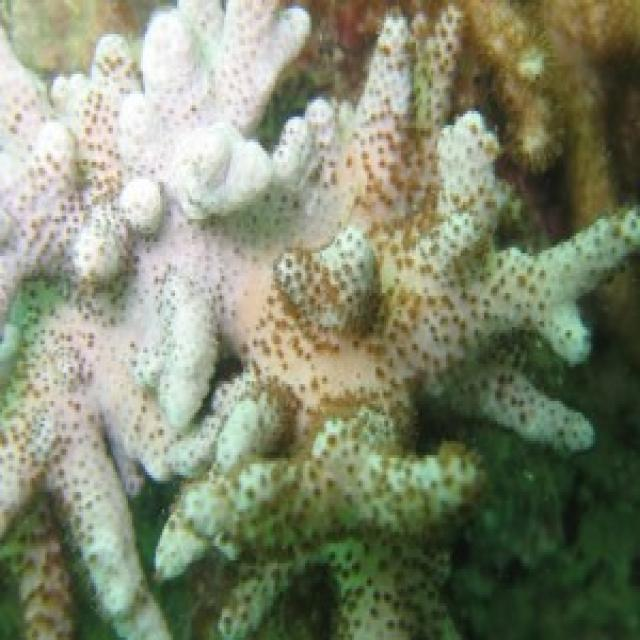Bleached: (1, 1, 639, 638), (257, 12, 639, 638), (1, 1, 310, 328), (462, 371, 594, 450)
